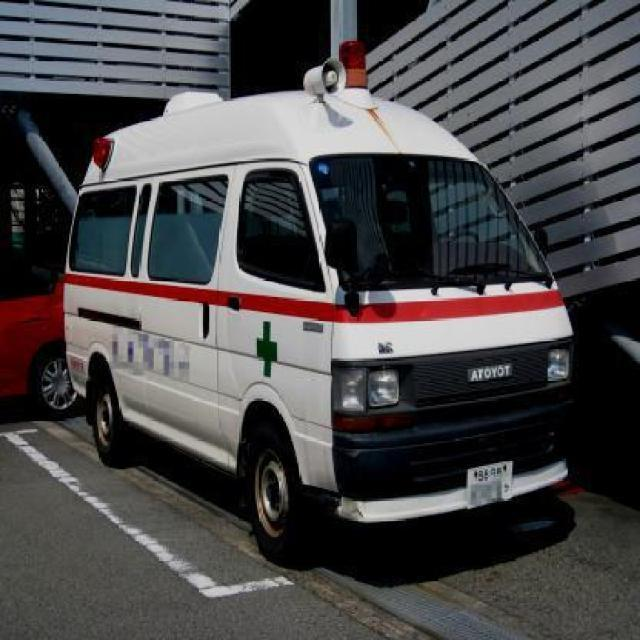emergency: (60, 38, 580, 564)
